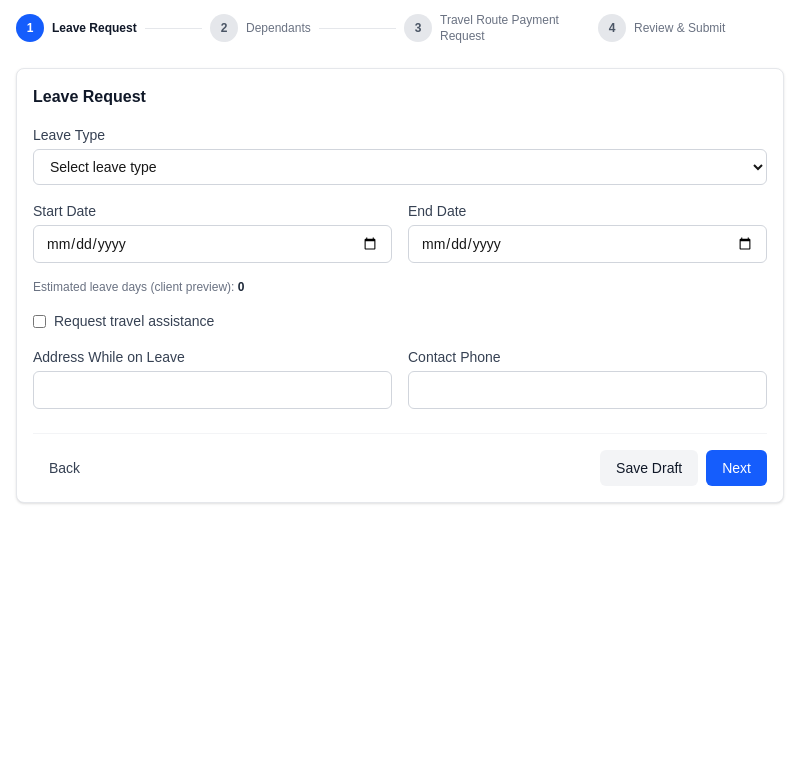
Test case: LeaveApplicationForm › autofills and locks a new route's From/To from the user's work station and place of domicile
Expected: the heading "Leave Request" is shown, x1=33 y1=88 x2=146 y2=105
Select "Annual Leave" in the dropdown labelled "Leave Type". click: (400, 167)
box: x1=33 y1=149 x2=767 y2=185
Type "2026-02-01" into the date field labelled "Start Date". click: (212, 244)
box: x1=33 y1=225 x2=392 y2=263
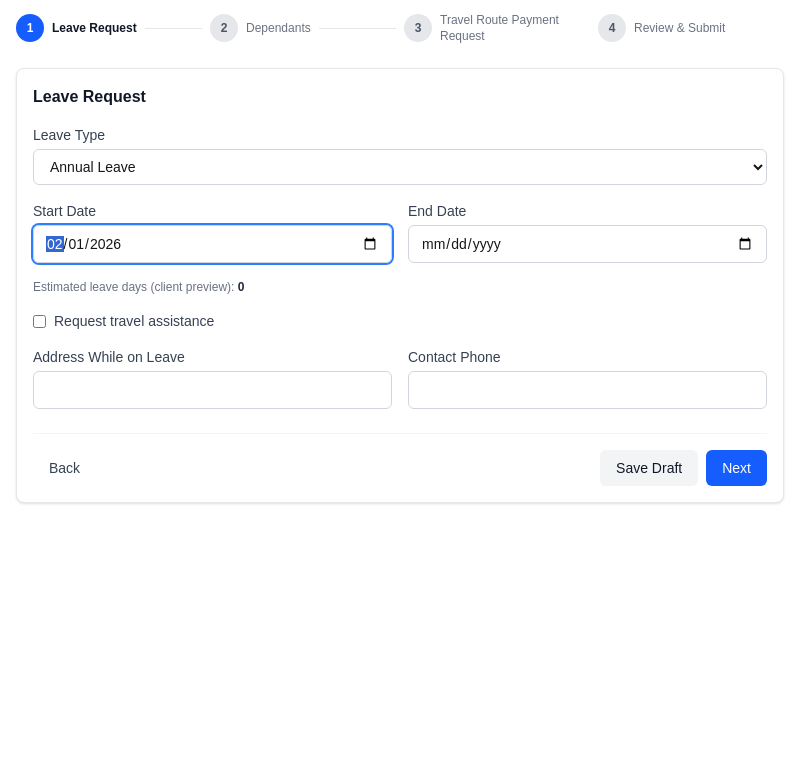
Type "2026-02-05" into the date field labelled "End Date". click: (588, 244)
box: x1=408 y1=225 x2=767 y2=263
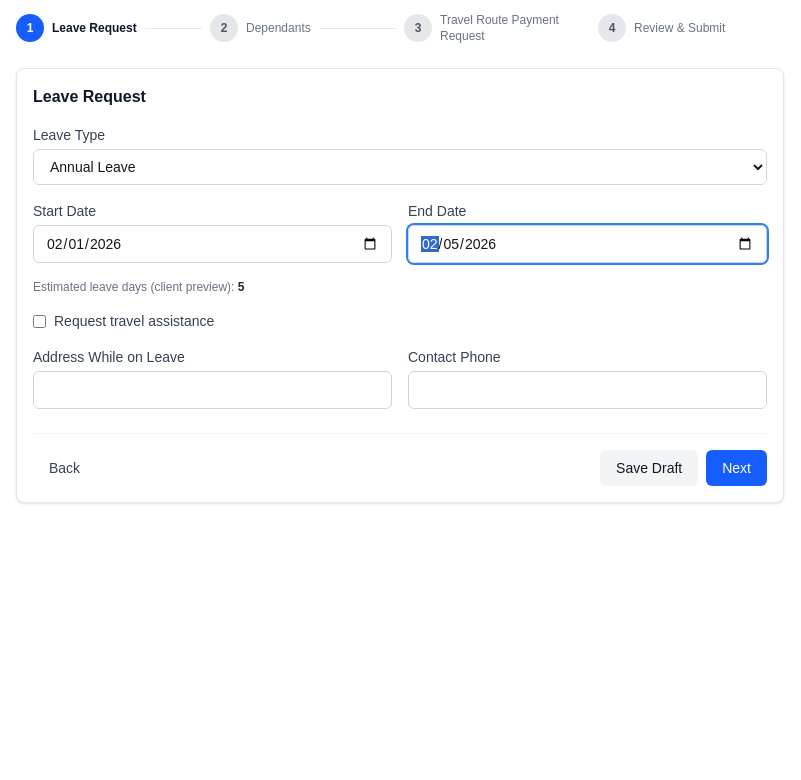
Click the checkbox labelled "Request travel assistance". click: (40, 321)
box: x1=33 y1=314 x2=46 y2=328
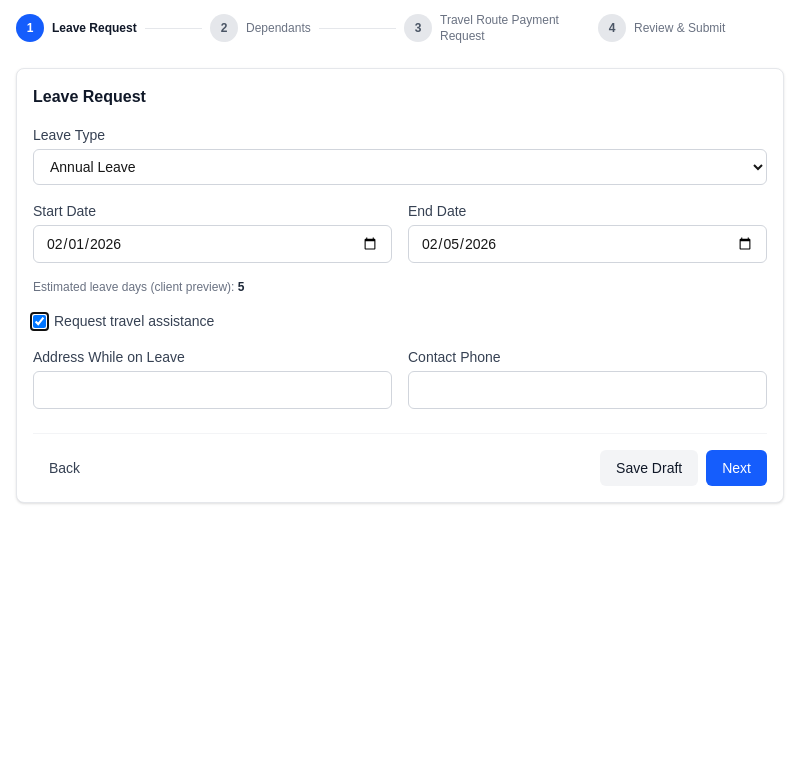
Click the button "Next". click: (737, 468)
box: x1=706 y1=450 x2=767 y2=486
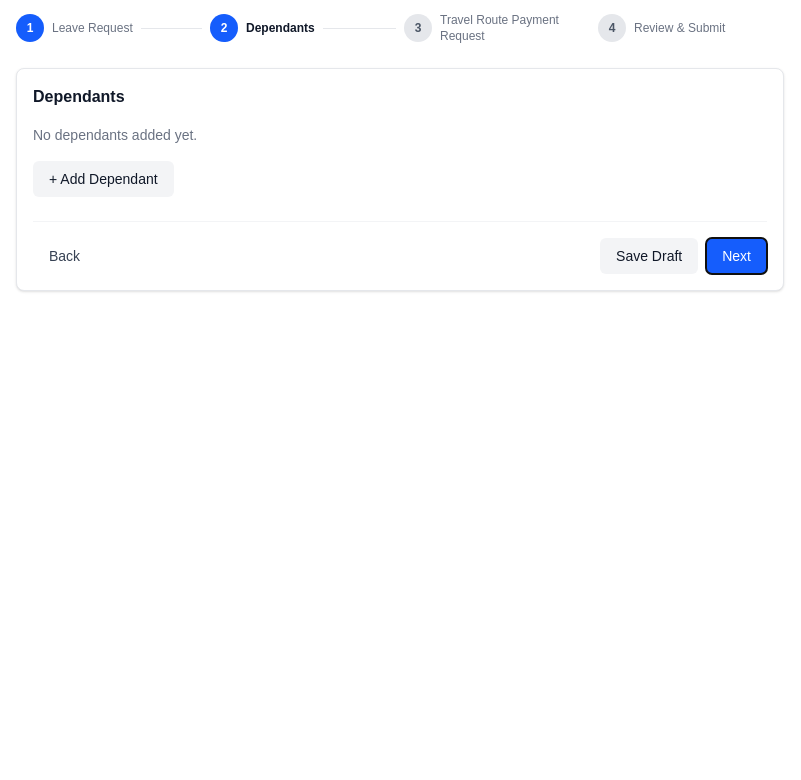
Now the heading "Dependants" is shown, box x1=33 y1=88 x2=125 y2=105
Click the button "Next". click: (737, 256)
box: x1=706 y1=238 x2=767 y2=274
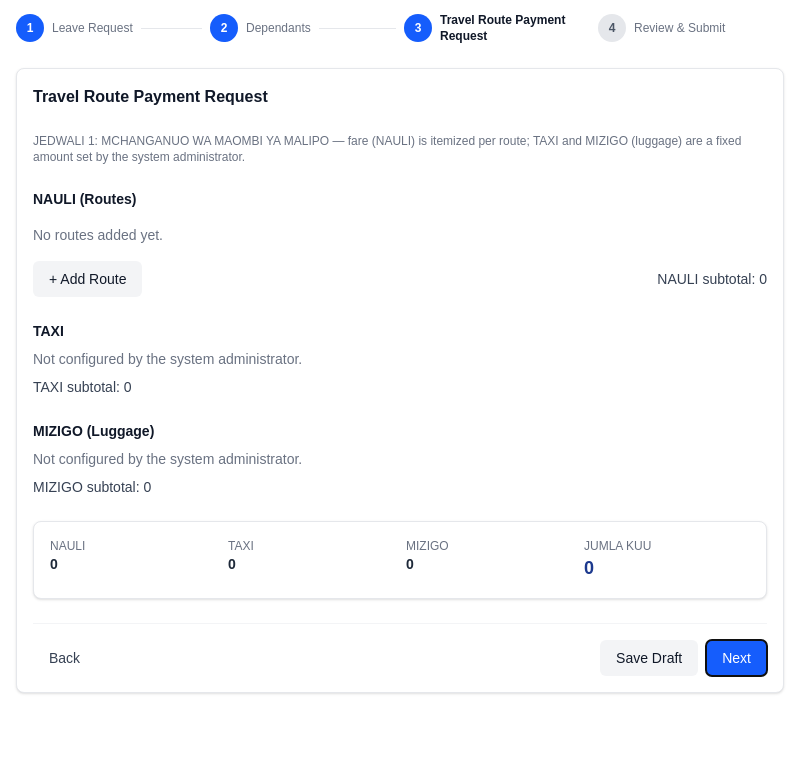
Now the heading "Travel Route Payment Request" is shown, box x1=33 y1=88 x2=268 y2=105
Click the button "+ Add Route". click: (88, 279)
box: x1=33 y1=261 x2=142 y2=297
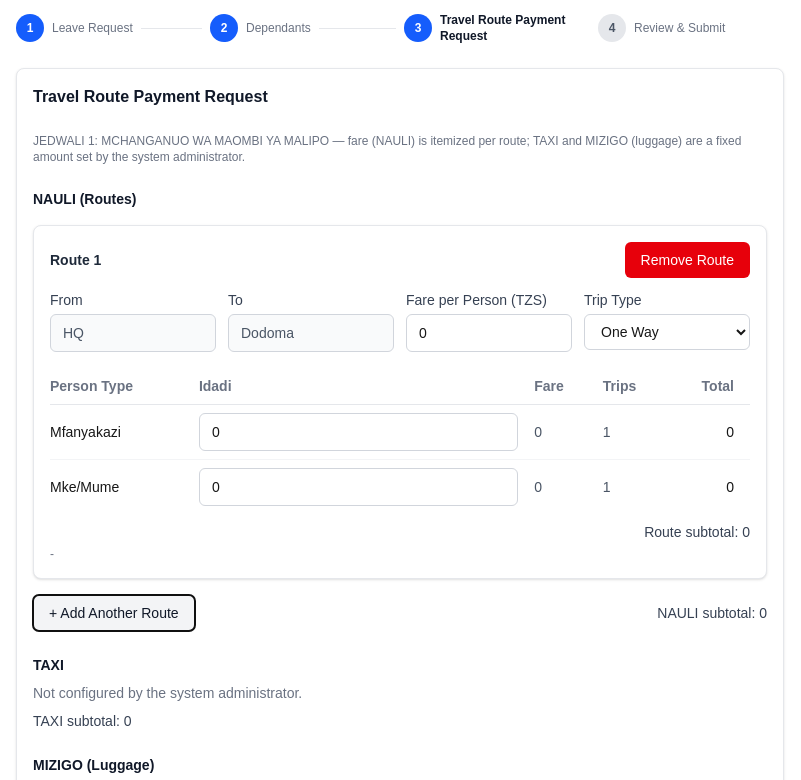
Now the field labelled "From" holds "HQ", box x1=50 y1=314 x2=216 y2=352
Now the field labelled "From" is disabled, box x1=50 y1=314 x2=216 y2=352
Now the field labelled "To" holds "Dodoma", box x1=228 y1=314 x2=394 y2=352
